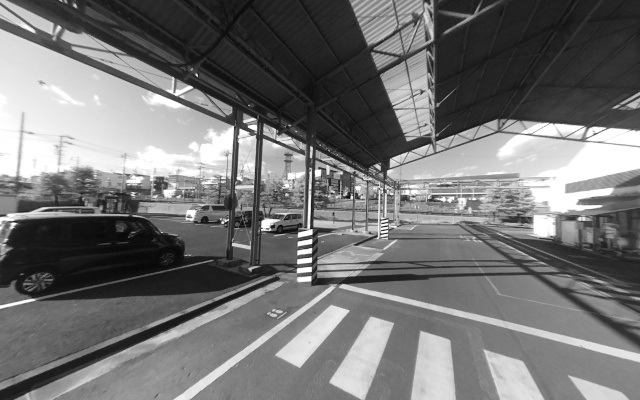bollard: (294, 228, 320, 288), (378, 215, 391, 241)
